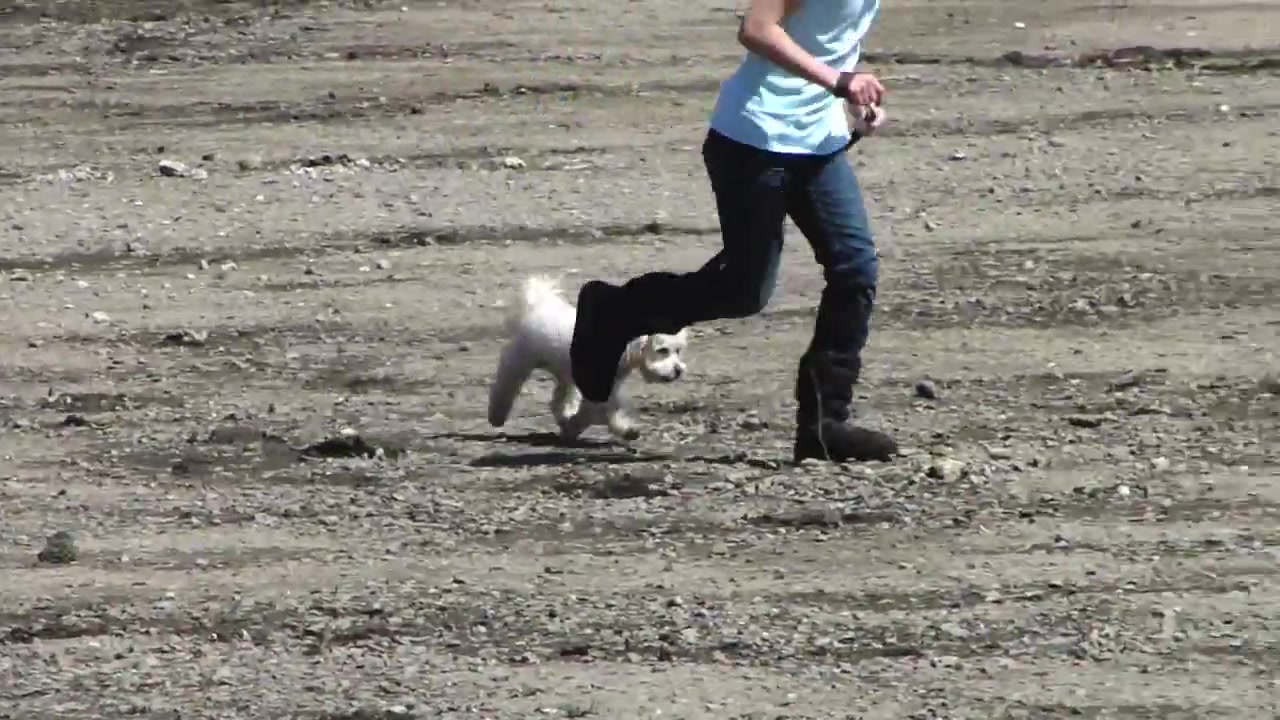dog: (483, 271, 691, 443)
